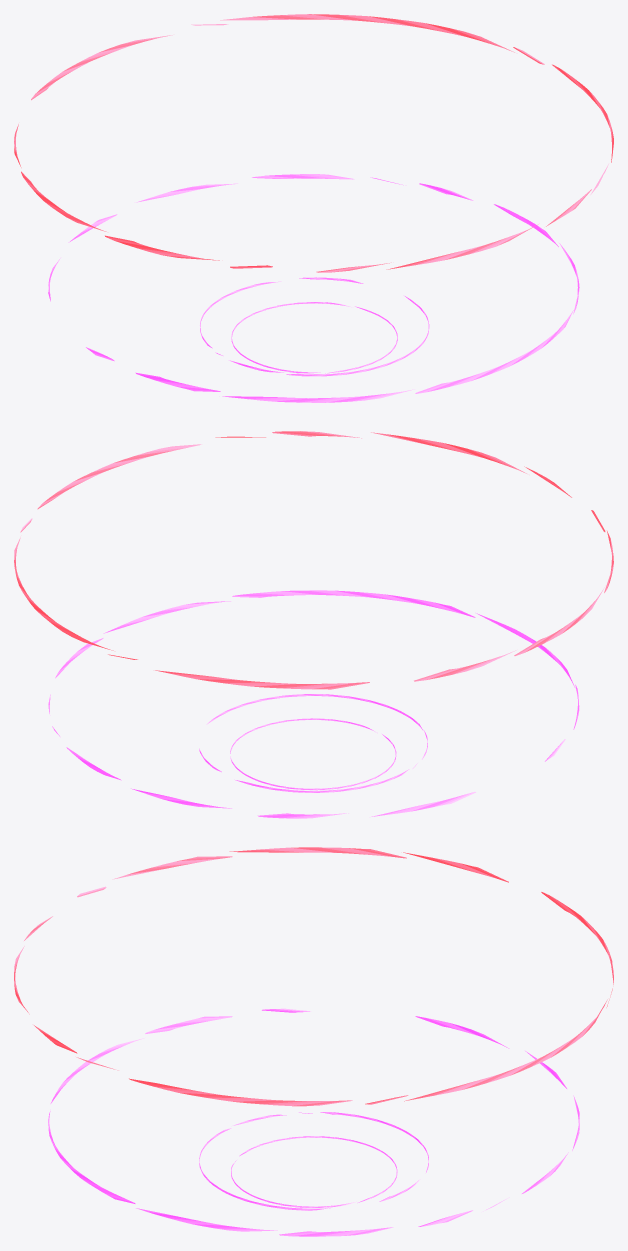
The model's file is vfx-QbOk4mgF.glb.
The picture shows the model from 3 angles, top to bottom: view 1: azimuth 30°, elevation 25°; view 2: azimuth 150°, elevation 25°; view 3: azimuth 270°, elevation 25°; orthographic projection.
Parts seen in each view (by area): view 1: Circle.001_6, Circle.002_7, Circle.003_8, Circle.005_10; view 2: Circle.001_6, Circle.002_7, Circle.003_8, Circle.005_10; view 3: Circle.001_6, Circle.002_7, Circle.003_8, Circle.005_10.
Part boxes in pixels (bbox=[...]): Circle.001_6: bbox=[14, 14, 613, 272]; Circle.002_7: bbox=[48, 174, 579, 402]; Circle.003_8: bbox=[200, 277, 429, 376]; Circle.005_10: bbox=[231, 302, 397, 373]; Circle.001_6: bbox=[14, 431, 613, 689]; Circle.002_7: bbox=[48, 590, 579, 818]; Circle.003_8: bbox=[199, 694, 427, 792]; Circle.005_10: bbox=[230, 718, 396, 790]; Circle.001_6: bbox=[14, 847, 613, 1106]; Circle.002_7: bbox=[48, 1008, 579, 1236]; Circle.003_8: bbox=[199, 1112, 428, 1210]; Circle.005_10: bbox=[231, 1136, 397, 1207].
Size of the model in its own units: 3.89 by 1.42 by 3.89.
